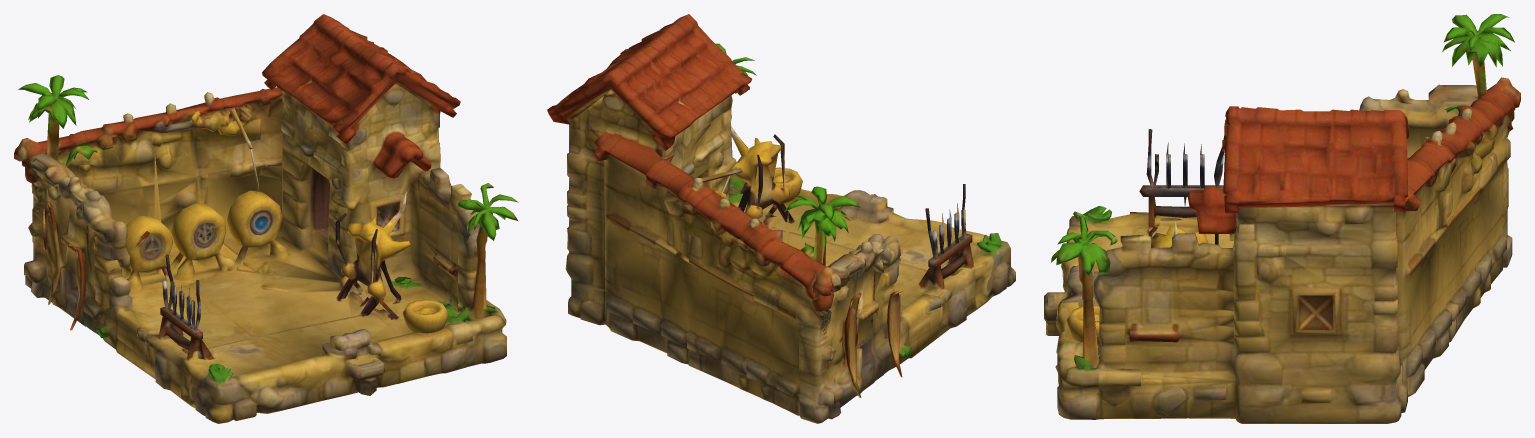
The model's file is galeria_tripo_2.glb.
3 renders of one model, left to right at view 1: azimuth 30°, elevation 25°; view 2: azimuth 150°, elevation 25°; view 3: azimuth 270°, elevation 25°, orthographic. The views are drawn at different scales.
Parts seen in each view (by area): view 1: tripo_node_51ca5e61-77a3-4e01-b9a5-701a4555852e; view 2: tripo_node_51ca5e61-77a3-4e01-b9a5-701a4555852e; view 3: tripo_node_51ca5e61-77a3-4e01-b9a5-701a4555852e.
Boxes of the visible parts, left/top/right/bottom form: tripo_node_51ca5e61-77a3-4e01-b9a5-701a4555852e: left=14, top=14, right=518, bottom=423; tripo_node_51ca5e61-77a3-4e01-b9a5-701a4555852e: left=547, top=14, right=1015, bottom=423; tripo_node_51ca5e61-77a3-4e01-b9a5-701a4555852e: left=1044, top=14, right=1520, bottom=423.
Size of the model in its own units: 0.9116 by 0.6593 by 0.9765.
1 material, 1 textured.
